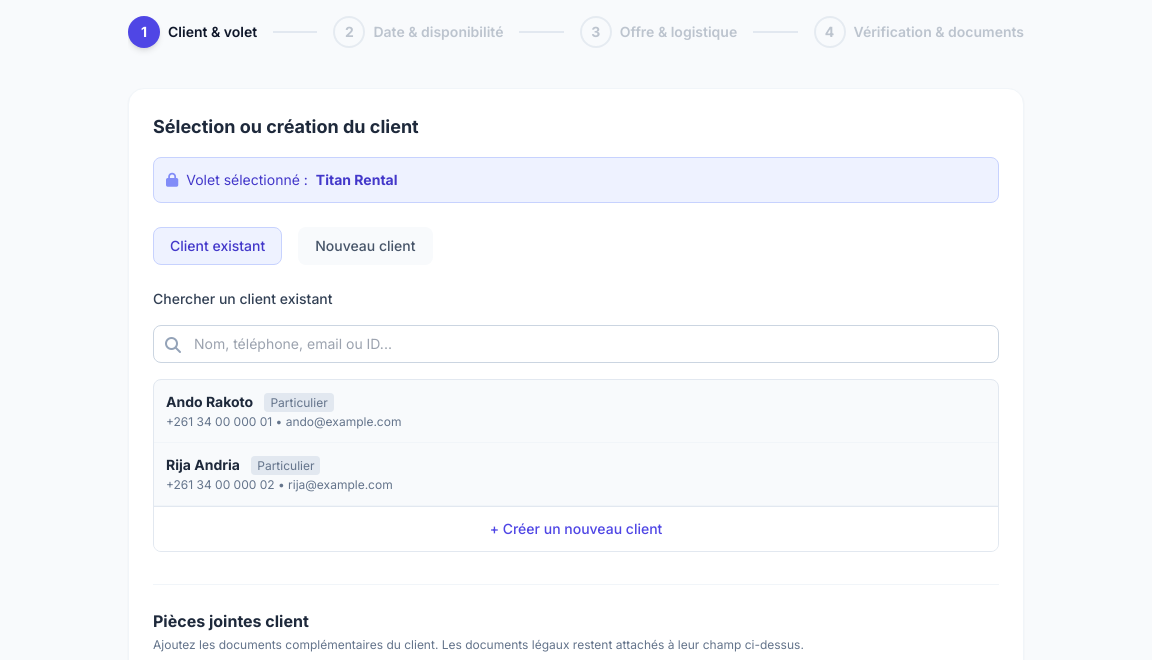
Test: ReservationNewPage › updates the chosen customer from the wizard without creating a duplicate
This screenshot has width=1152, height=660.
Click the element with test id "client-select-CUST-001" at point(576, 412), box [154,380,998,443]
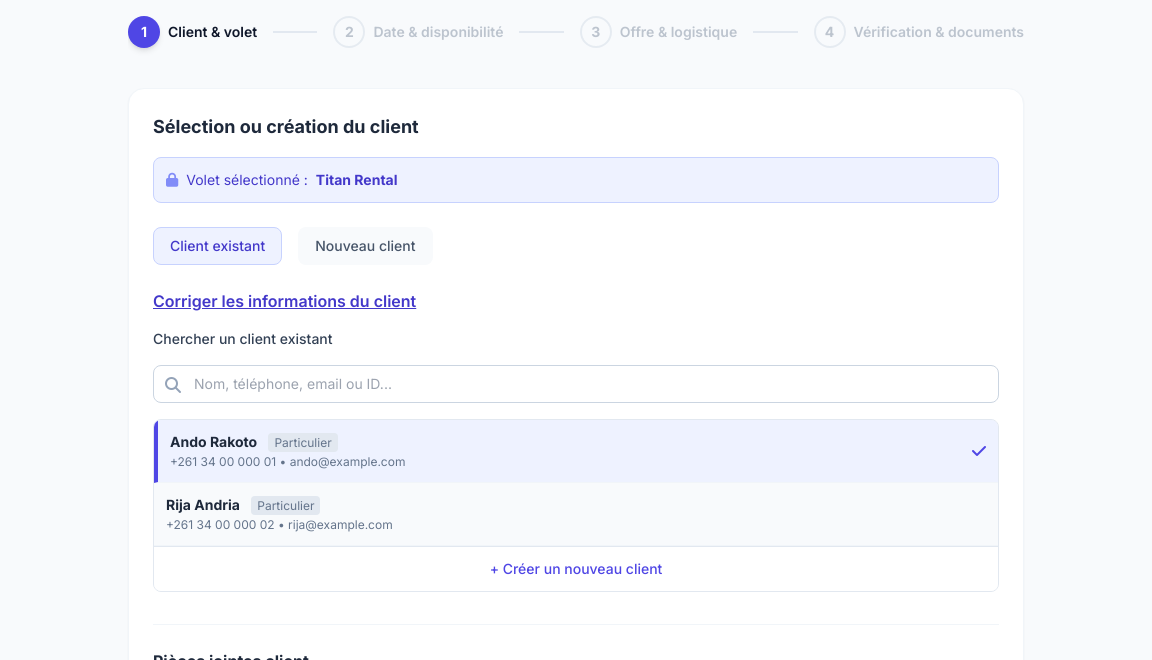
Click the button "Corriger les informations du client" at point(285, 301), box [153,289,416,313]
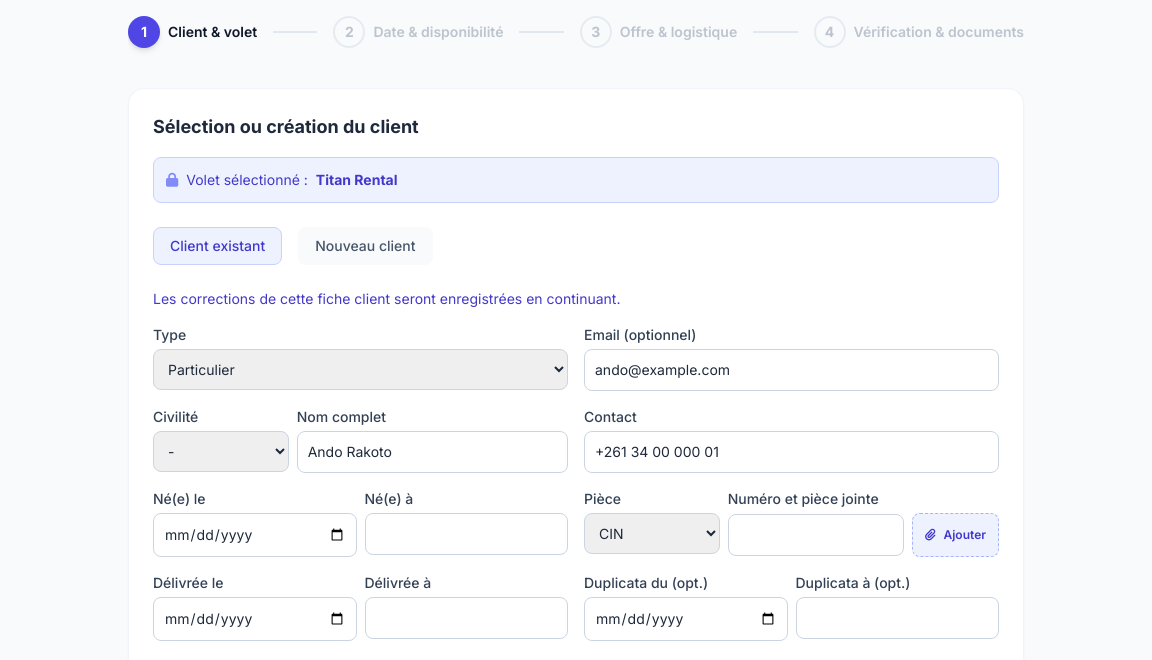
Replace the text in the field showing "Ando Rakoto" below "Nom complet" with "Ando corrigé" at point(432, 452), box [297,431,568,473]
(page scrolled)
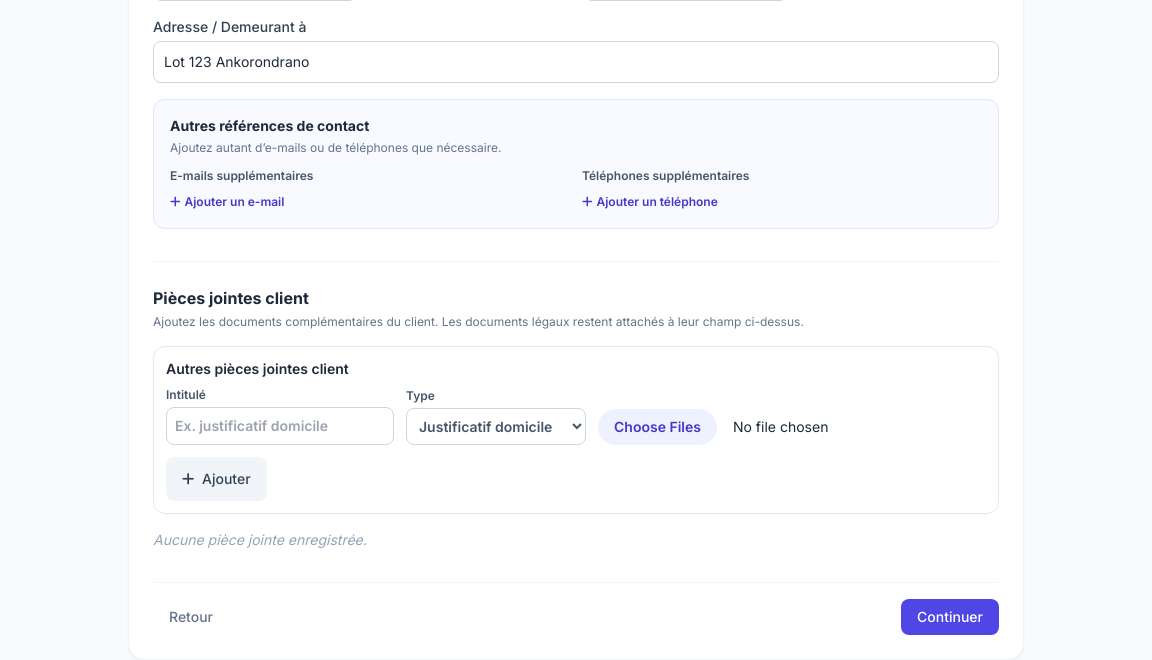
Click the button "Continuer" at point(950, 617), box [901,599,999,635]
(page scrolled)
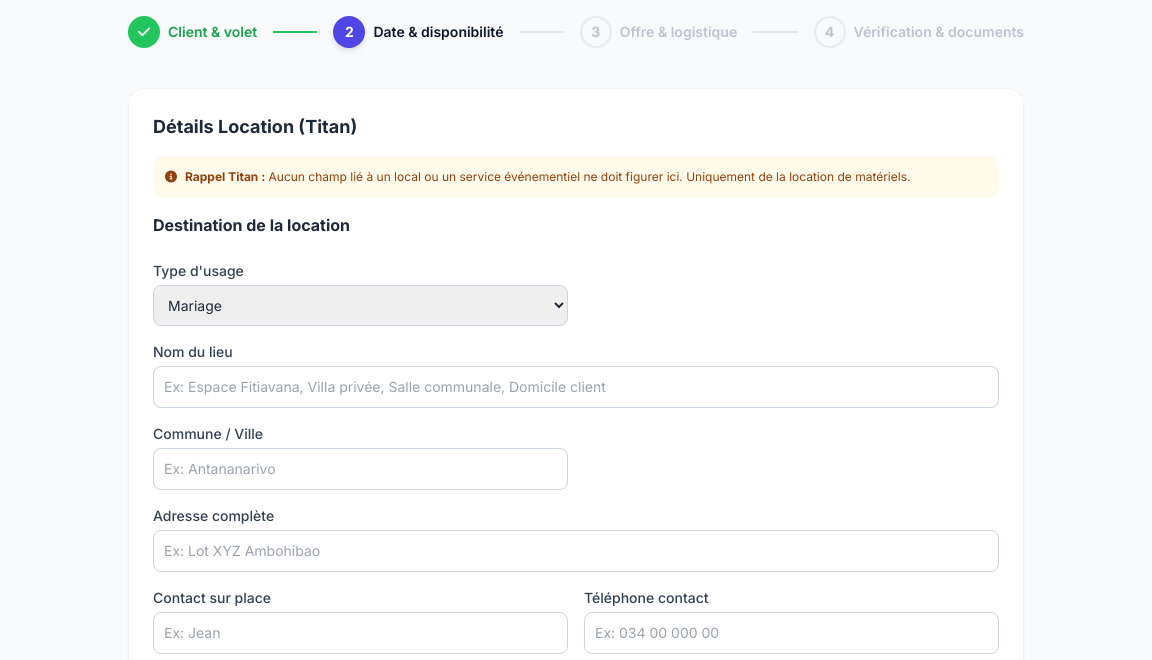
Expected: the heading "Détails Location (Titan)" is shown, [153,116,357,137]
